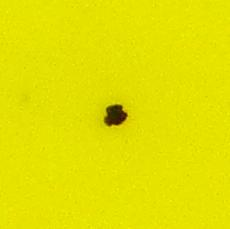Coleoptera: (100, 100, 130, 129)
